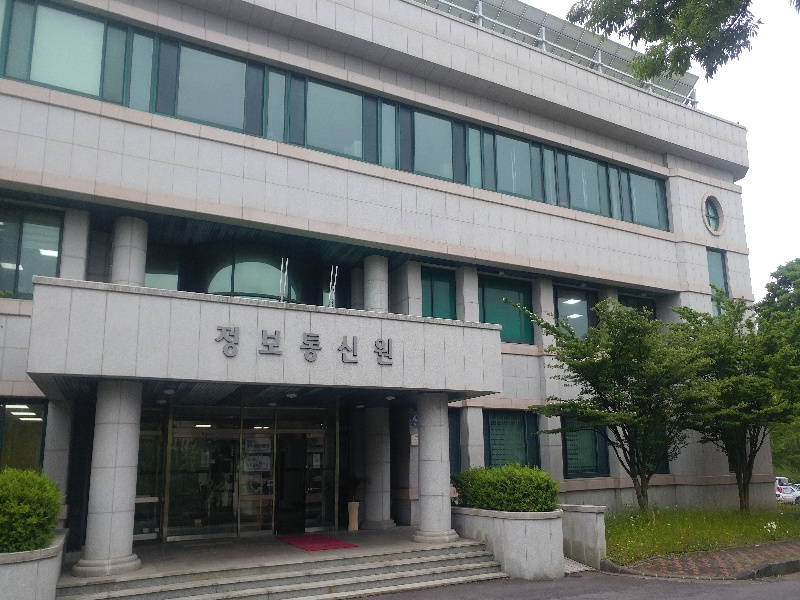Information Telecommunication Center: (3, 65, 755, 547), (4, 8, 715, 471), (195, 299, 434, 389)
